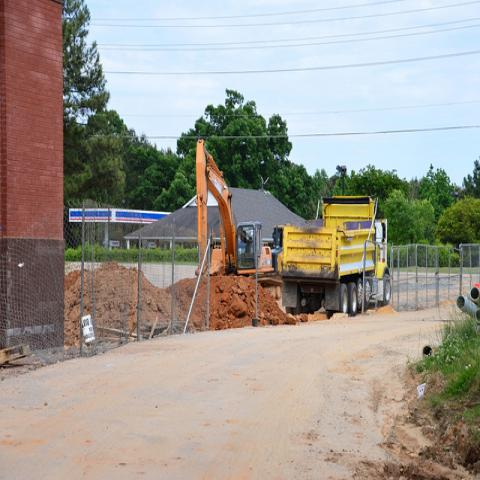truck: (280, 196, 392, 320)
